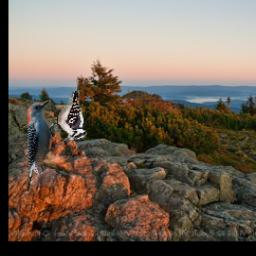Woodpecker: (26, 98, 55, 192), (54, 90, 87, 142)
